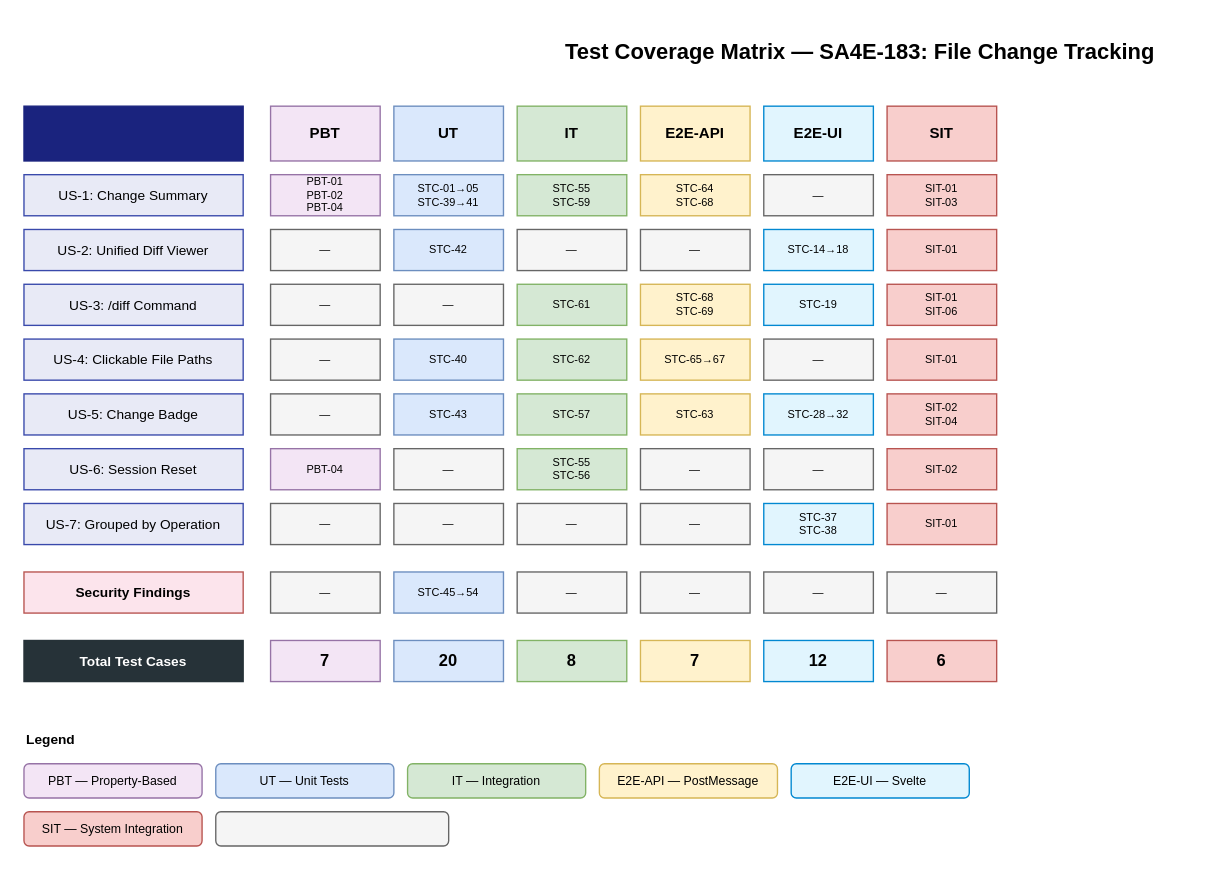
This 1226x870 diagram has some shape labels left out. The centre of each missing label's shape, as x and y in pixels:
User Stories: the point at 133,133
— = No coverage at this level: the point at 331,828
